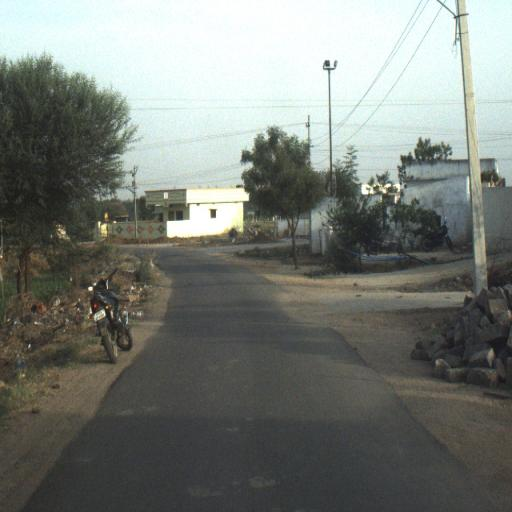street_light_0: (126, 186, 136, 199)
